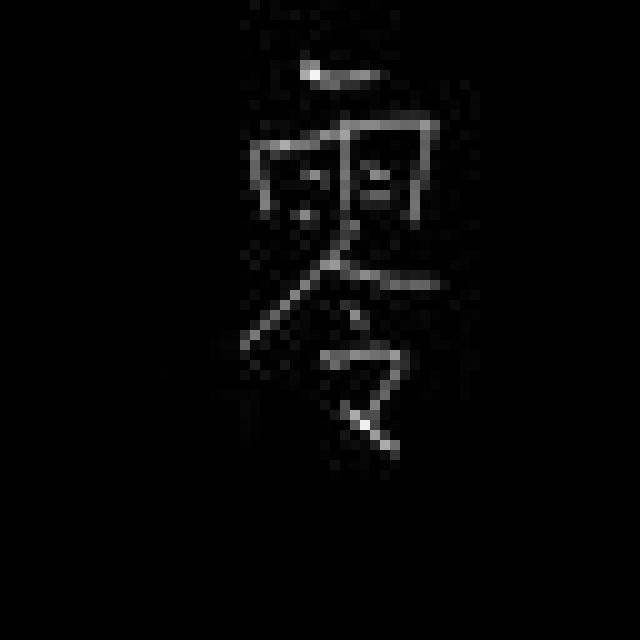0 -zero-: (220, 51, 446, 462)
